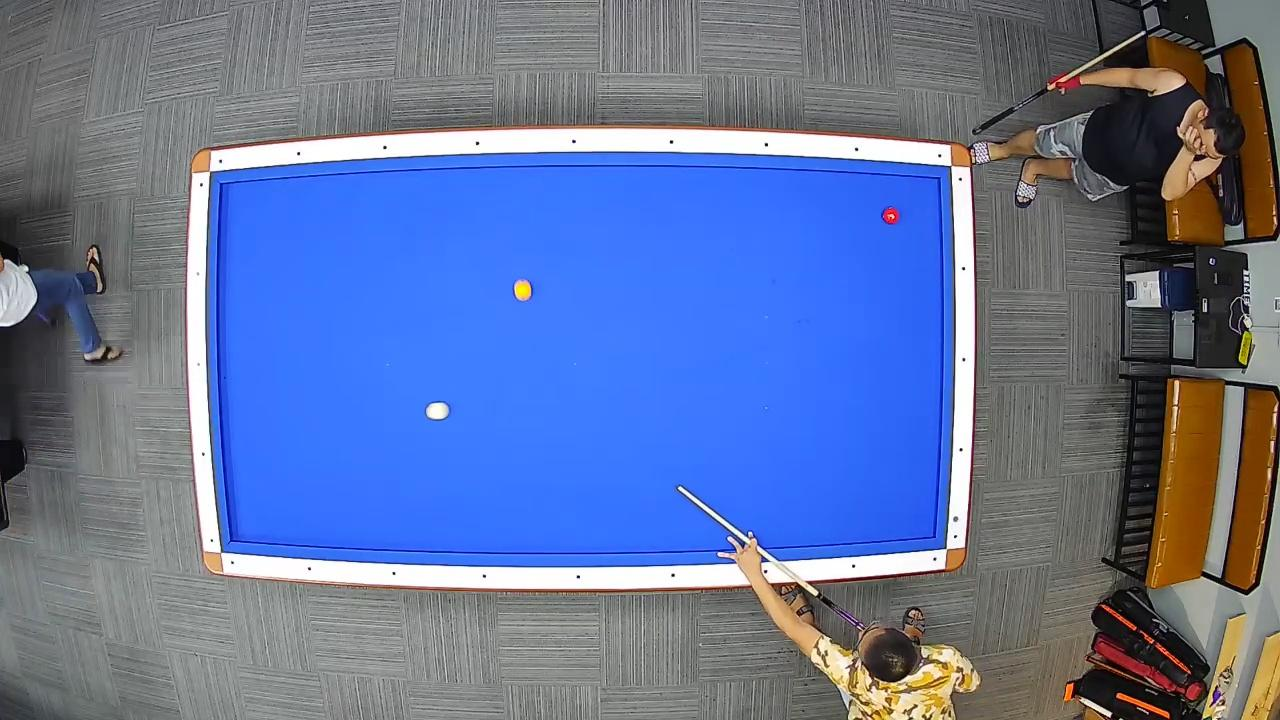Red: (882, 206, 902, 226)
White: (425, 400, 452, 421)
Yellow: (511, 277, 535, 302)
